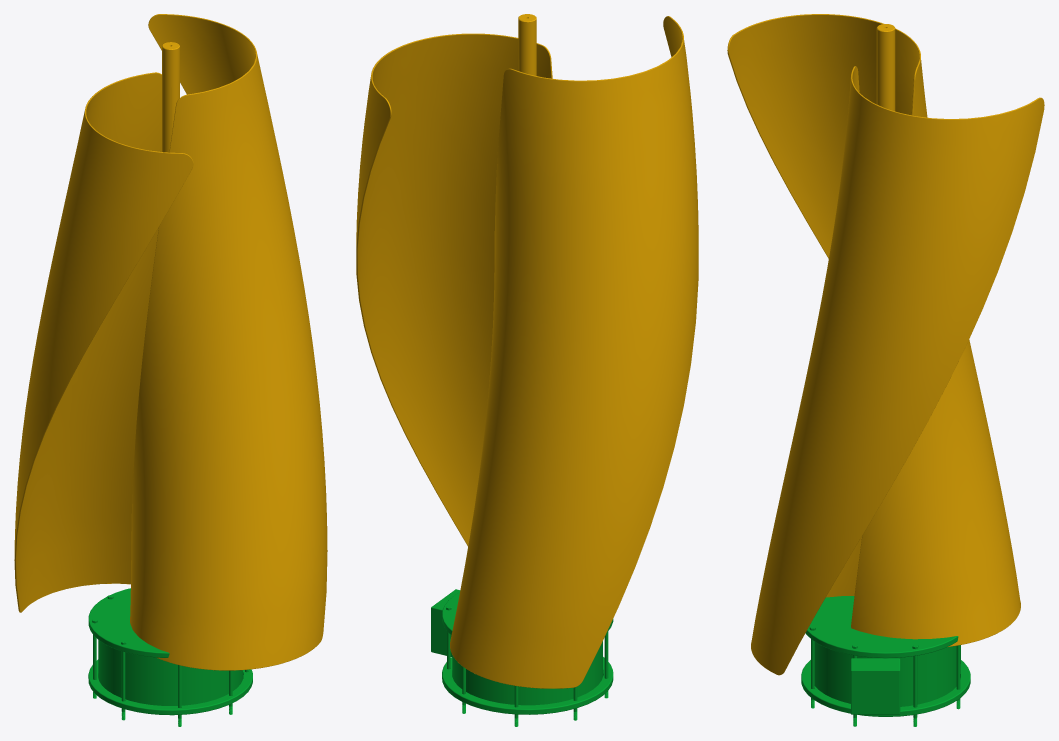
Rendered from windterbine.glb.
3 renders of one model, left to right at view 1: azimuth 30°, elevation 25°; view 2: azimuth 150°, elevation 25°; view 3: azimuth 270°, elevation 25°, orthographic. The views are drawn at different scales.
Parts seen in each view (by area): view 1: Polygon.005, Chamfer1; view 2: Polygon.005, Chamfer1; view 3: Polygon.005, Chamfer1.
Part boxes in pixels (x1,y1,x2,y2): Polygon.005: (14,14,327,670); Chamfer1: (88,588,252,726); Polygon.005: (356,14,698,688); Chamfer1: (431,589,613,726); Polygon.005: (727,14,1044,675); Chamfer1: (801,596,970,726).
Bounding box in the file's own units: 1.07 × 2.45 × 1.03.
